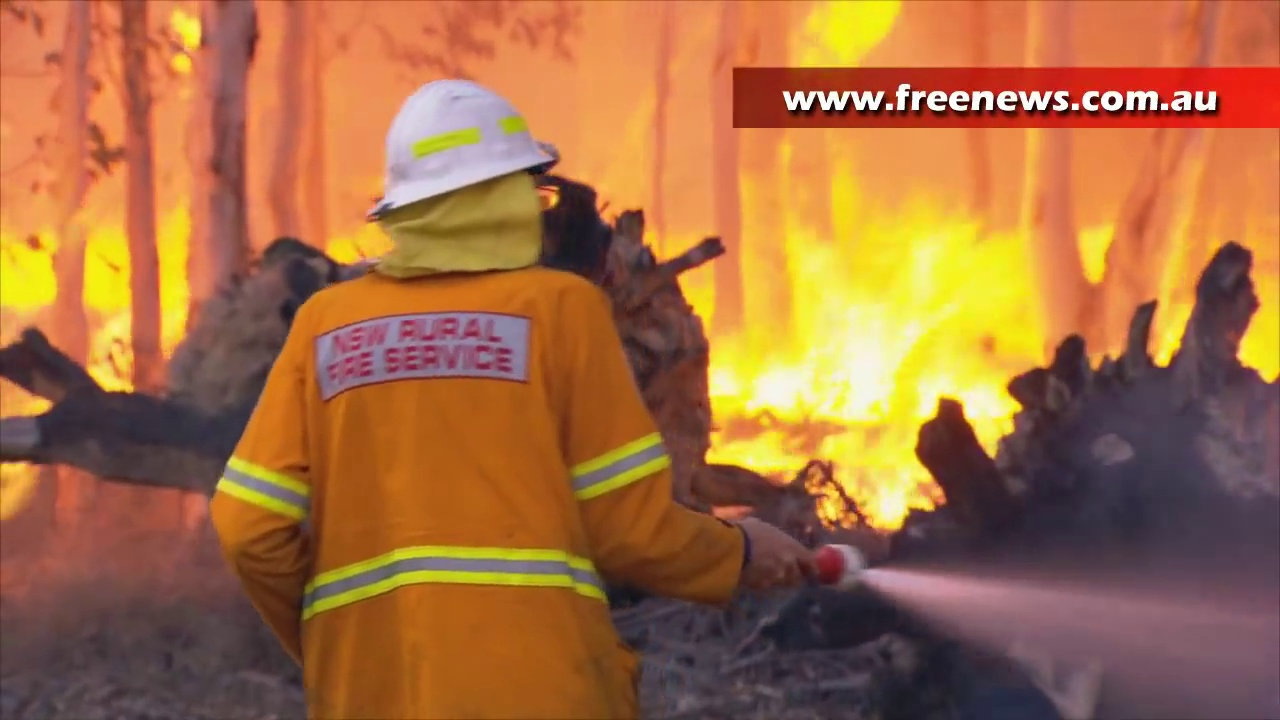fire: (714, 209, 1018, 516)
